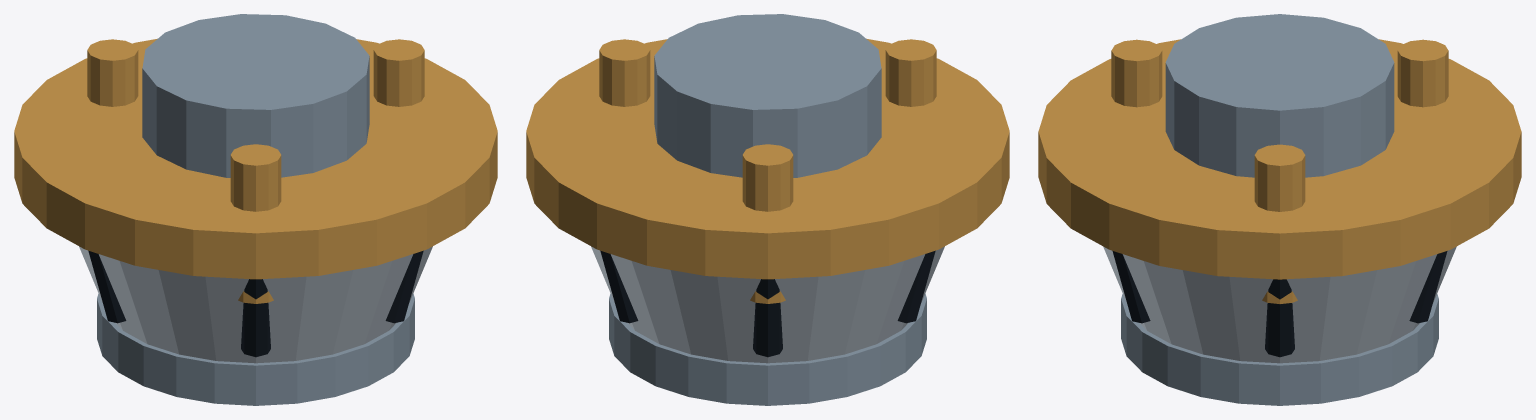
File: claw-hub.glb
The picture shows the model from 3 angles, left to right: view 1: azimuth 30°, elevation 25°; view 2: azimuth 150°, elevation 25°; view 3: azimuth 270°, elevation 25°; orthographic projection.
Parts seen in each view (by area): view 1: claw-hub__brass, claw-hub__steel, claw-hub__chrome, claw-hub__dark; view 2: claw-hub__brass, claw-hub__steel, claw-hub__chrome, claw-hub__dark; view 3: claw-hub__brass, claw-hub__steel, claw-hub__chrome, claw-hub__dark.
Part boxes in pixels (box(x1,y1,x2,y2)): claw-hub__brass: box(14, 38, 497, 303); claw-hub__steel: box(97, 14, 414, 405); claw-hub__chrome: box(79, 246, 432, 363); claw-hub__dark: box(88, 250, 423, 357); claw-hub__brass: box(526, 38, 1009, 303); claw-hub__steel: box(609, 14, 926, 405); claw-hub__chrome: box(591, 246, 944, 363); claw-hub__dark: box(600, 250, 935, 357); claw-hub__brass: box(1038, 39, 1521, 303); claw-hub__steel: box(1121, 14, 1438, 405); claw-hub__chrome: box(1103, 246, 1456, 363); claw-hub__dark: box(1112, 251, 1447, 357).
Bounding box in the file's own units: 0.38 × 0.24 × 0.38.
